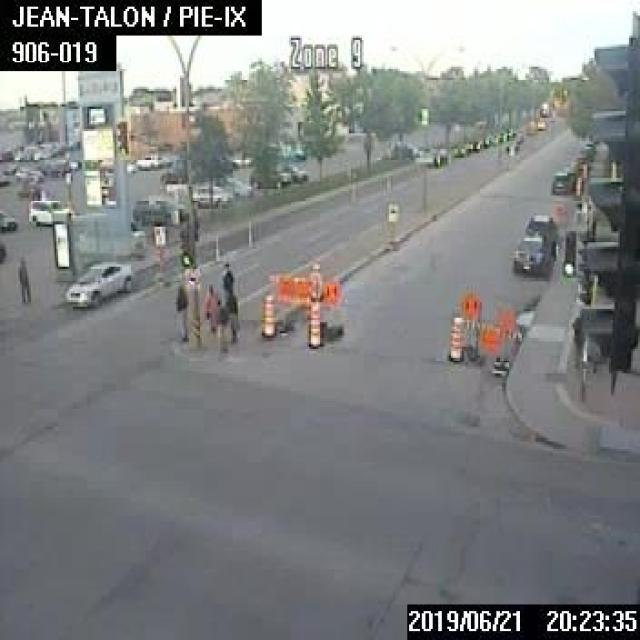construction: (267, 262, 342, 342), (457, 287, 516, 374), (445, 315, 463, 359), (306, 299, 322, 346), (260, 294, 274, 336)
pedestrian: (171, 278, 187, 338), (14, 256, 31, 304), (225, 289, 238, 342), (204, 282, 218, 330), (221, 261, 233, 306), (215, 303, 225, 353)
vehicle: (64, 255, 134, 309), (510, 236, 548, 274), (132, 197, 188, 221), (522, 212, 558, 248), (27, 197, 72, 224), (190, 184, 231, 207), (250, 167, 288, 187), (212, 176, 250, 196), (550, 169, 574, 194), (280, 162, 309, 182), (425, 146, 447, 166), (390, 141, 417, 157), (135, 153, 161, 168), (0, 210, 16, 230), (25, 169, 42, 181), (465, 138, 478, 151), (450, 142, 464, 154), (478, 135, 488, 146), (535, 118, 546, 128), (487, 133, 496, 144)
